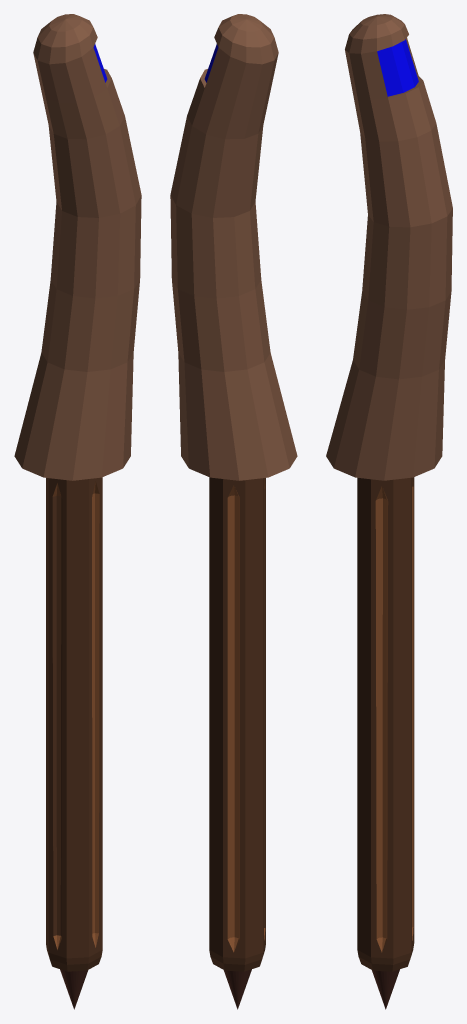
Rendered from Wand 542.glb.
The picture shows the model from 3 angles, left to right: view 1: azimuth 30°, elevation 25°; view 2: azimuth 150°, elevation 25°; view 3: azimuth 330°, elevation 25°; orthographic projection.
Parts seen in each view (by area): view 1: GeneratedWand; view 2: GeneratedWand; view 3: GeneratedWand.
Part boxes in pixels (x1,y1,x2,y2): GeneratedWand: (14,14,141,1009); GeneratedWand: (170,14,297,1009); GeneratedWand: (326,14,452,1009).
Bounding box in the file's own units: 0.0644 × 0.5374 × 0.0572.
